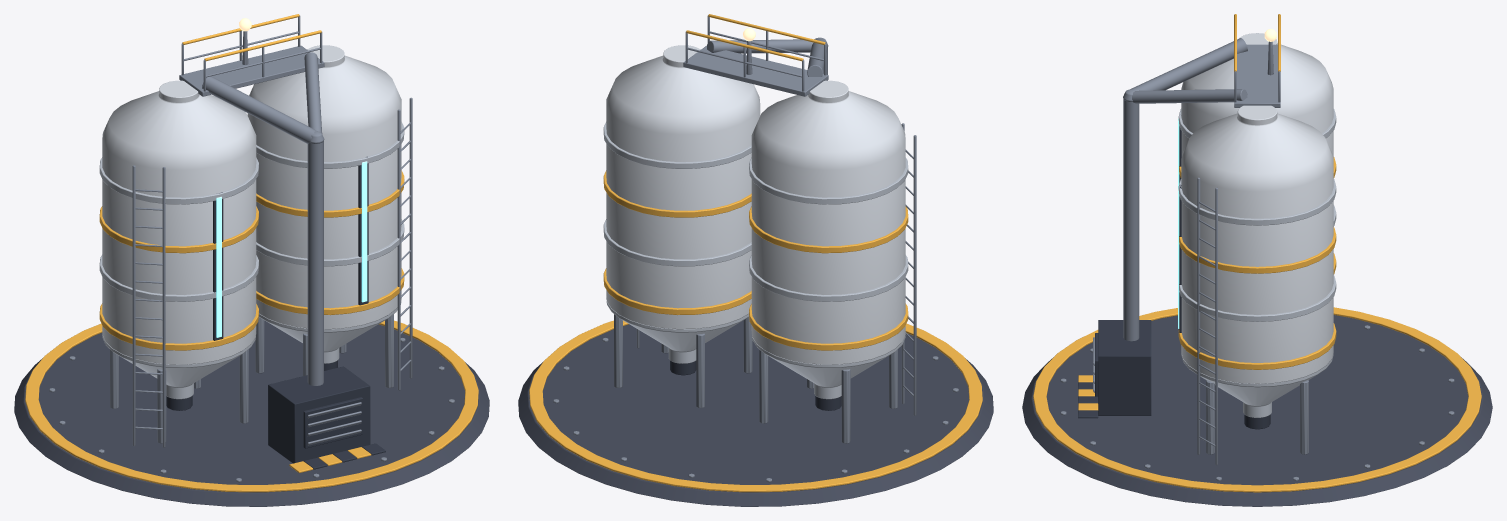
Rendered from roh.fbx.
3 renders of one model, left to right at view 1: azimuth 30°, elevation 25°; view 2: azimuth 150°, elevation 25°; view 3: azimuth 270°, elevation 25°, orthographic.
Parts seen in each view (by area): view 1: roh_Koerper; view 2: roh_Koerper; view 3: roh_Koerper.
Boxes of the visible parts, x1,y1,x2,y2 form: roh_Koerper: (14,14,489,506); roh_Koerper: (518,14,993,506); roh_Koerper: (1022,14,1492,506).
Bounding box in the file's own units: 7.09 × 6.29 × 7.09.
